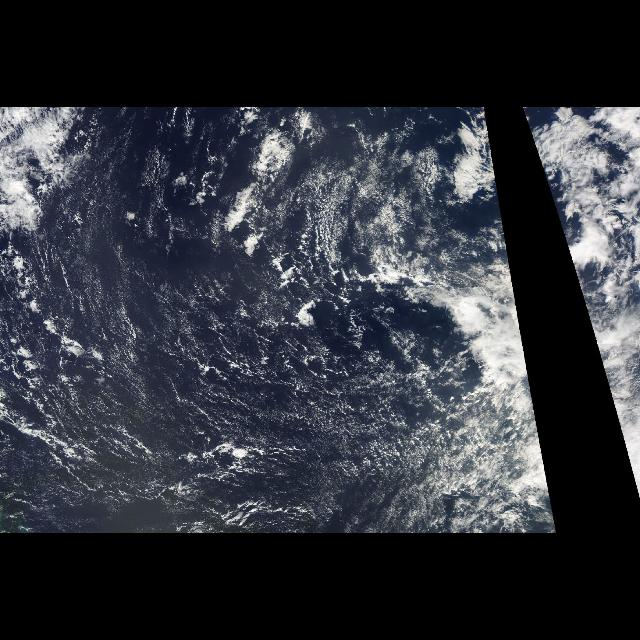Gravel: (184, 128, 398, 396), (0, 236, 114, 444), (169, 410, 289, 496)
Sugar: (63, 125, 433, 532), (18, 459, 190, 525)
